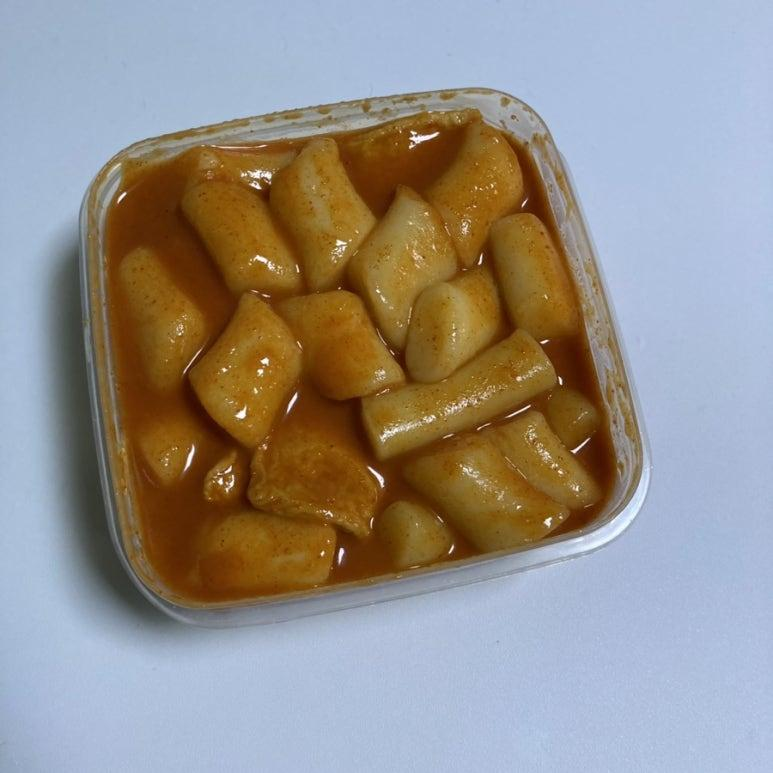Lunch Box: (80, 89, 648, 623)
